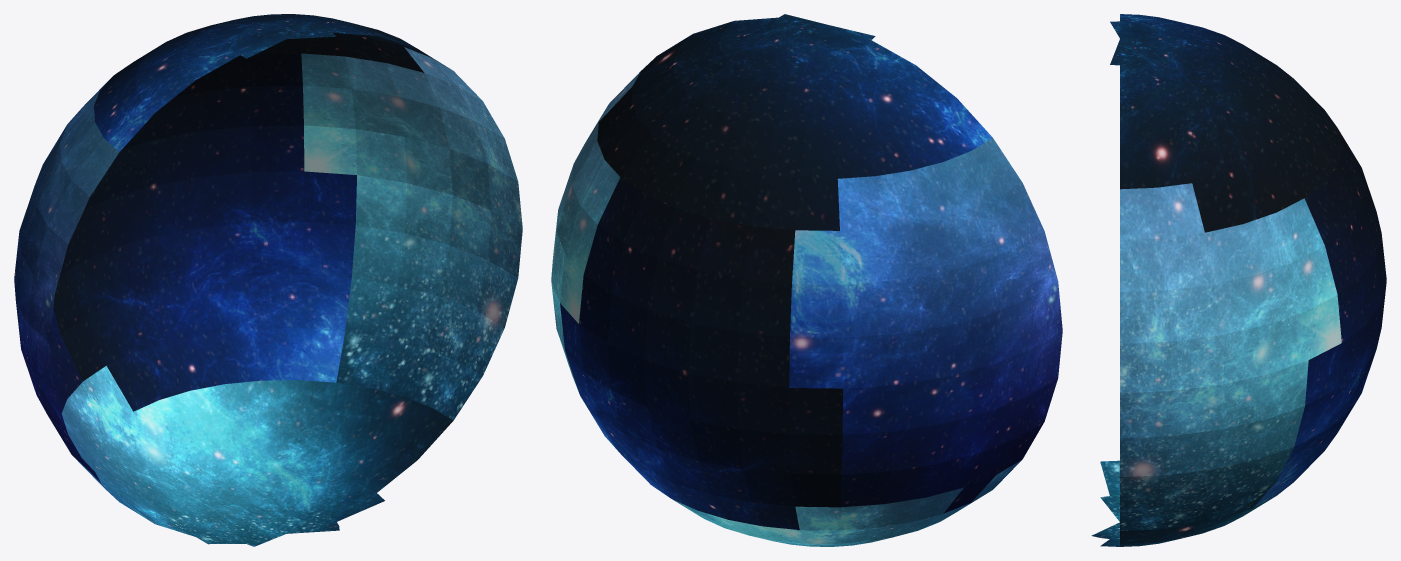
File: space003.obj
3 renders of one model, left to right at view 1: azimuth 30°, elevation 25°; view 2: azimuth 150°, elevation 25°; view 3: azimuth 270°, elevation 25°, orthographic. The views are drawn at different scales.
Visible parts, largest first — view 1: Sphere; view 2: Sphere; view 3: Sphere.
Boxes of the visible parts, x1,y1,x2,y2 form: Sphere: (14, 14, 522, 546); Sphere: (551, 14, 1062, 546); Sphere: (1091, 14, 1386, 546).
Bounding box in the file's own units: 2 × 2 × 1.11.
